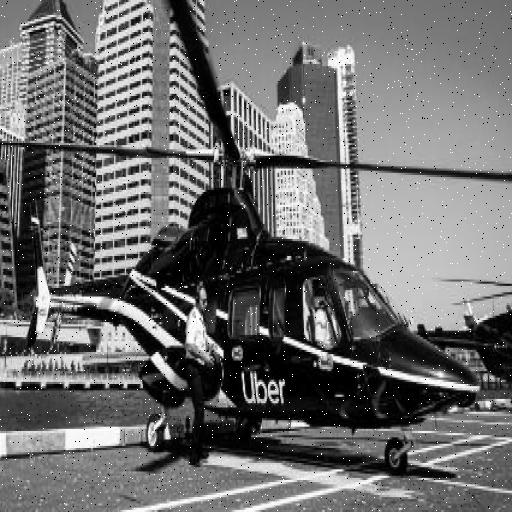helicopter: (1, 1, 512, 475)
